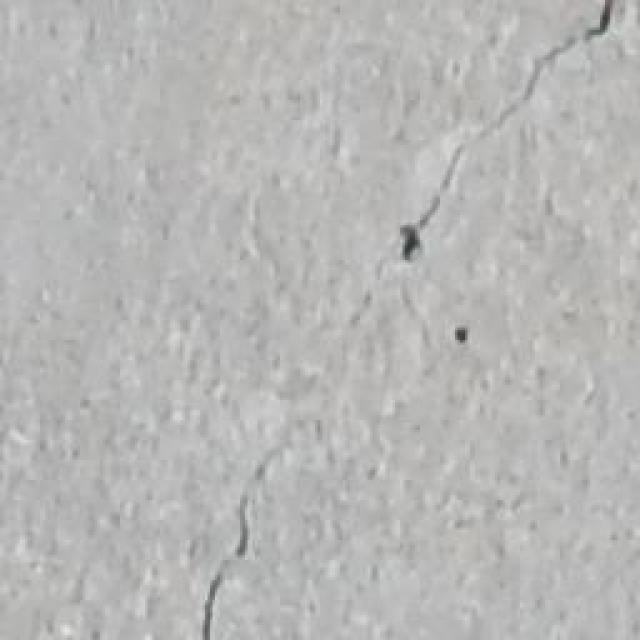concrete-crack: (389, 0, 623, 270), (195, 434, 286, 636)
